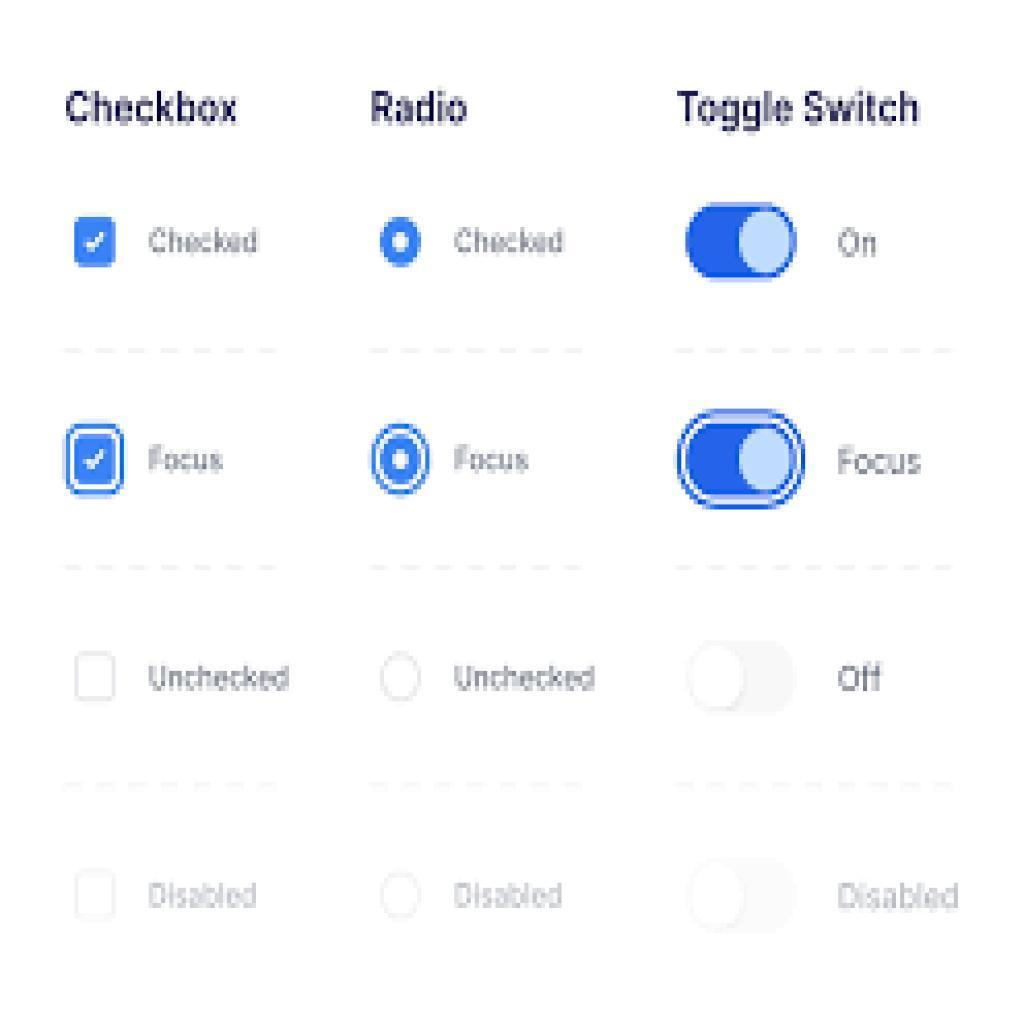checkbox: (65, 427, 125, 498), (74, 872, 120, 923), (77, 652, 118, 705), (76, 217, 115, 268)
radio: (369, 423, 433, 500), (377, 651, 430, 705), (380, 218, 426, 271), (382, 874, 426, 924)
switch: (681, 410, 808, 510), (685, 855, 805, 937), (687, 202, 801, 283), (687, 638, 801, 715)
